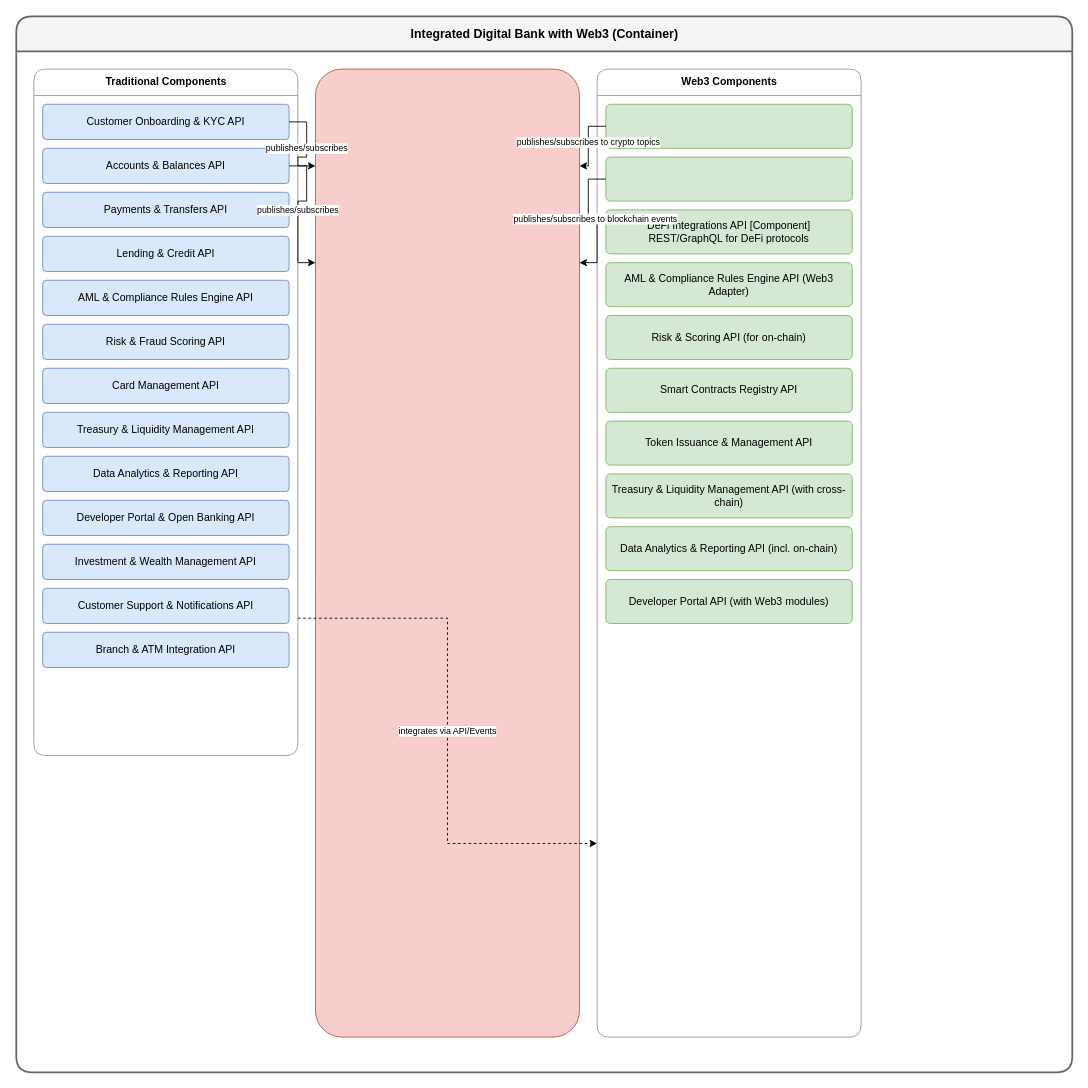
Some shapes in this 1088 by 1088 pixel diagram are drawn without their labels. The centre of each missing label's shape, as x and y in pixels:
"Blockchain Gateway API [Component] Abstract layer over blockchain RPC" belongs at point (728, 178).
"Crypto Wallets & Custody API [Component] REST/gRPC for digital asset management" belongs at point (728, 125).
"Kafka Streaming Platform [Component] Event-driven messaging" belongs at point (447, 552).
